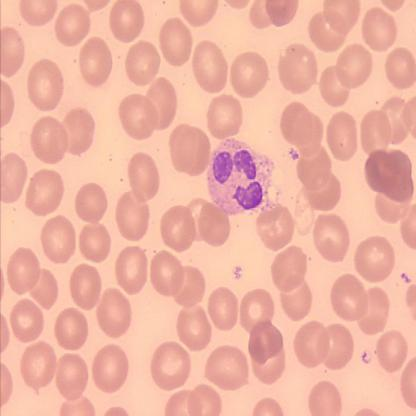Segmented neutrophil: (205, 135, 276, 223)
